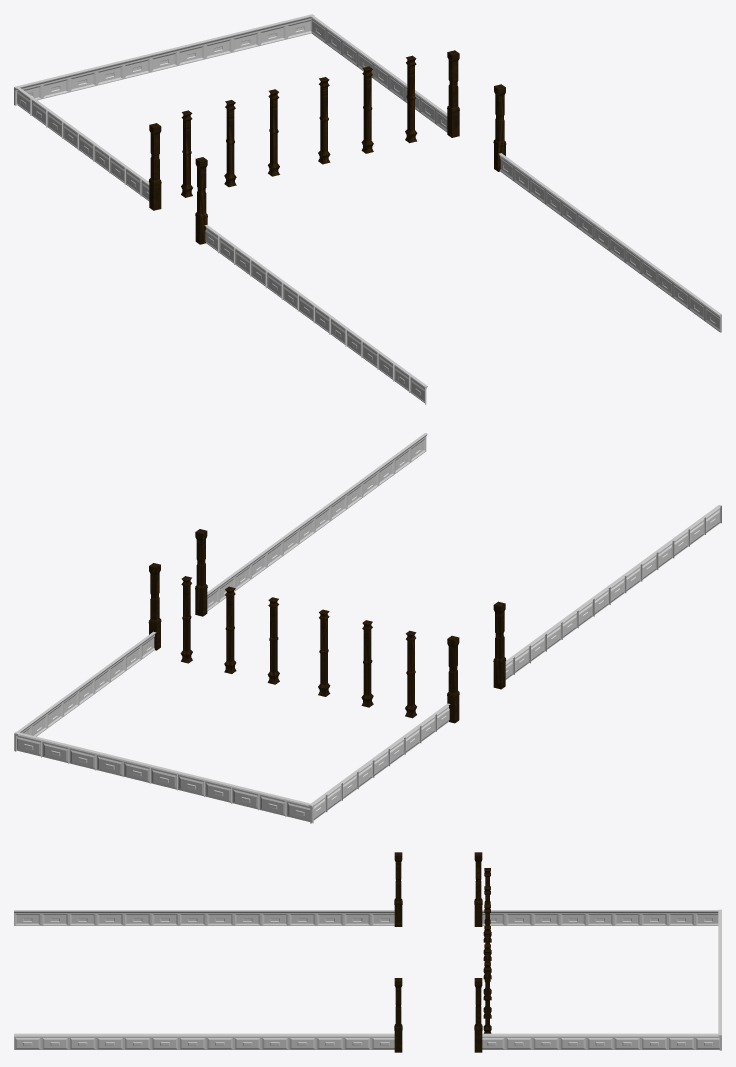
Rendered from 1_WallWood.fbx.
3 views of the same model, one above another, from view 1: azimuth 30°, elevation 25°; view 2: azimuth 150°, elevation 25°; view 3: azimuth 270°, elevation 25° (orthographic). The views are drawn at different scales.
Parts seen in each view (by area): view 1: Wall_Ornament.002, Wall_Ornament.001, Wall_Ornament, Pillar_MainHall, Pillar_Hallways; view 2: Wall_Ornament.002, Wall_Ornament.001, Wall_Ornament, Pillar_MainHall, Pillar_Hallways; view 3: Wall_Ornament.002, Wall_Ornament, Pillar_Hallways, Pillar_MainHall, Wall_Ornament.001.
Boxes of the visible parts, bbox=[...] form: Wall_Ornament.002: bbox=[204, 153, 721, 404]; Wall_Ornament.001: bbox=[14, 14, 314, 105]; Wall_Ornament: bbox=[15, 14, 447, 201]; Pillar_MainHall: bbox=[181, 55, 417, 197]; Pillar_Hallways: bbox=[148, 50, 506, 244]; Wall_Ornament.002: bbox=[207, 433, 721, 679]; Wall_Ornament.001: bbox=[14, 731, 314, 823]; Wall_Ornament: bbox=[14, 631, 450, 823]; Pillar_MainHall: bbox=[180, 576, 416, 718]; Pillar_Hallways: bbox=[148, 529, 505, 723]; Wall_Ornament.002: bbox=[14, 910, 394, 1049]; Wall_Ornament: bbox=[482, 910, 721, 1049]; Pillar_Hallways: bbox=[394, 852, 482, 1052]; Pillar_MainHall: bbox=[483, 868, 491, 1033]; Wall_Ornament.001: bbox=[718, 909, 721, 1050].
Size of the model in its own units: 2149 by 556 by 4984.
